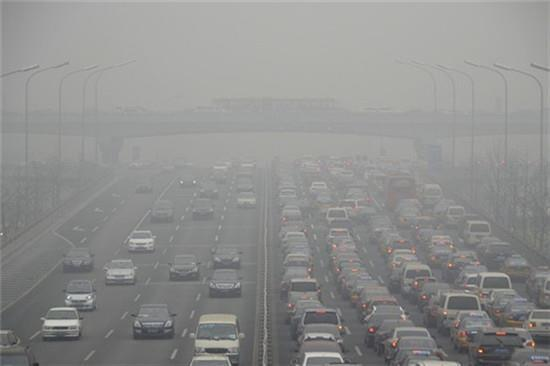bus: (384, 174, 419, 213)
car: (189, 314, 245, 366), (466, 329, 527, 366), (434, 292, 485, 334), (452, 312, 499, 353), (367, 319, 418, 356), (387, 326, 436, 363), (130, 303, 177, 339), (425, 288, 473, 323), (361, 313, 409, 347), (295, 332, 343, 366), (294, 310, 345, 342), (387, 335, 439, 366), (289, 339, 347, 366), (366, 304, 411, 338), (1, 327, 40, 366), (473, 272, 514, 309), (447, 309, 491, 343), (39, 307, 84, 340), (492, 327, 536, 357), (498, 298, 537, 331), (360, 295, 401, 326), (400, 262, 434, 299), (487, 293, 527, 324), (386, 347, 449, 366), (287, 299, 328, 328), (417, 282, 454, 313), (62, 279, 97, 311), (482, 287, 519, 317), (389, 253, 418, 291), (445, 251, 478, 283), (347, 276, 381, 307), (393, 351, 462, 366), (457, 271, 491, 301), (285, 278, 321, 306), (278, 271, 315, 298), (207, 269, 244, 296), (455, 264, 489, 293), (167, 253, 202, 281), (520, 309, 550, 341), (407, 276, 441, 304), (356, 286, 391, 313), (103, 258, 138, 285), (340, 272, 373, 300), (498, 255, 529, 284), (294, 351, 353, 366), (462, 219, 492, 248), (381, 235, 413, 262), (503, 348, 550, 366), (481, 242, 511, 270), (210, 244, 243, 269), (527, 266, 550, 301), (281, 253, 313, 278), (335, 266, 368, 290), (408, 216, 436, 244), (61, 247, 95, 270), (394, 202, 423, 228), (127, 229, 157, 253), (394, 197, 425, 220), (424, 242, 453, 266), (474, 237, 505, 258), (345, 185, 371, 209), (326, 228, 353, 251), (369, 223, 398, 244), (420, 183, 444, 208), (457, 214, 483, 237), (184, 355, 238, 366), (280, 232, 307, 253), (426, 235, 454, 255), (444, 205, 468, 228), (389, 249, 414, 271), (323, 208, 349, 229), (191, 199, 216, 220), (149, 201, 175, 221), (281, 205, 303, 225), (236, 192, 258, 209), (538, 277, 550, 308), (278, 189, 298, 206), (308, 181, 328, 197), (199, 182, 219, 198), (235, 177, 255, 192), (177, 174, 198, 187), (239, 156, 257, 171), (209, 170, 228, 184), (135, 180, 153, 193), (212, 163, 229, 174)
